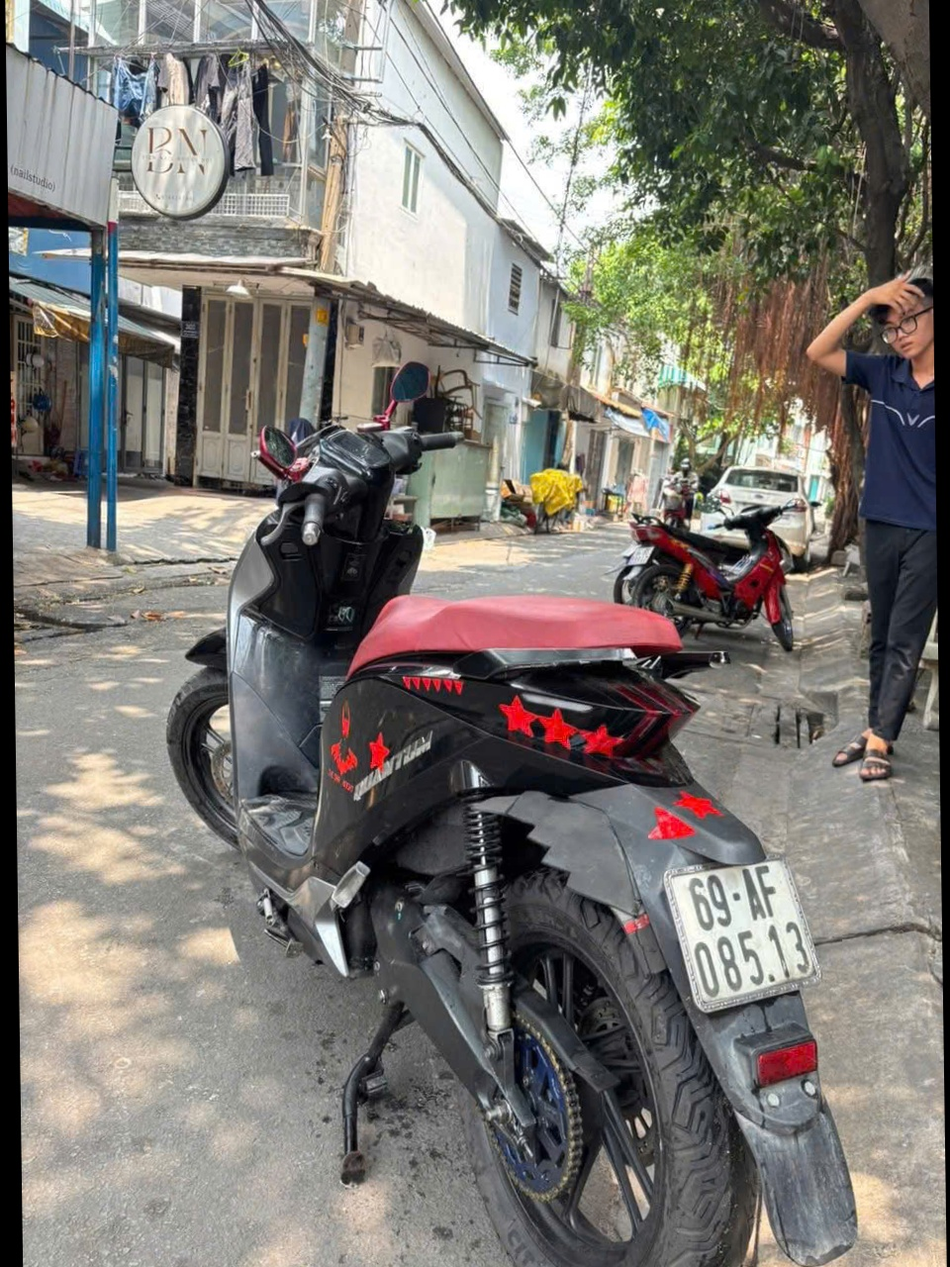Bien-so: (665, 863, 822, 1013)
